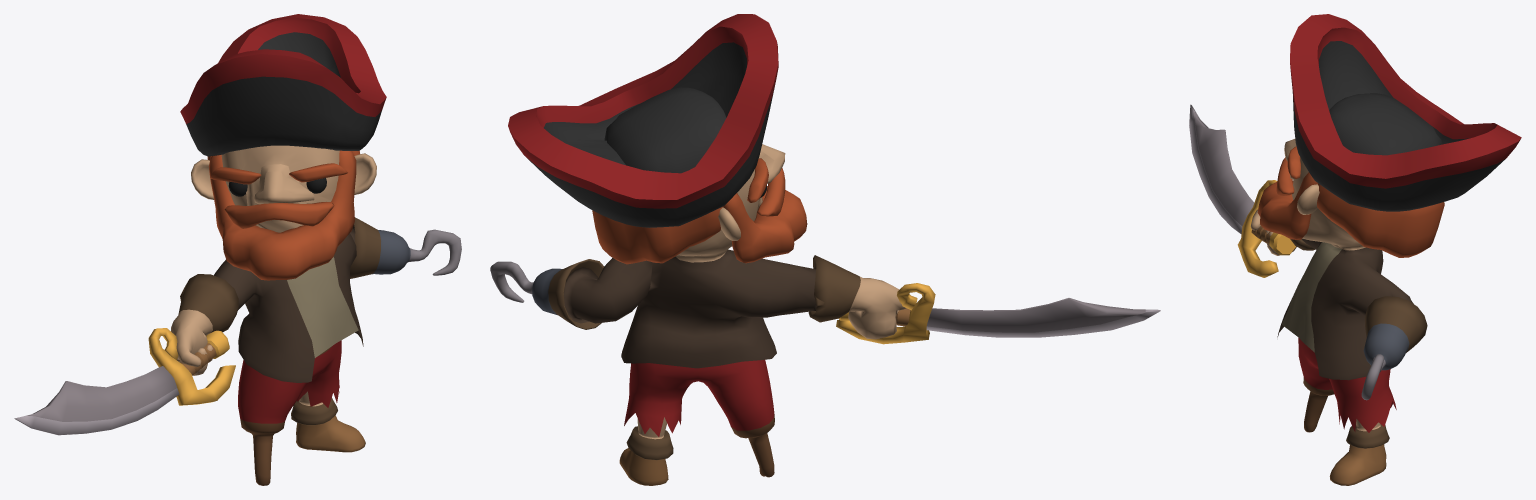
The model's file is pirate_one.glb.
The picture shows the model from 3 angles, left to right: view 1: azimuth 30°, elevation 25°; view 2: azimuth 150°, elevation 25°; view 3: azimuth 270°, elevation 25°; orthographic projection. The views are drawn at different scales.
Parts seen in each view (by area): view 1: Captain_Barbarossa, Weapon_Cutlass.001; view 2: Captain_Barbarossa, Weapon_Cutlass.001; view 3: Captain_Barbarossa, Weapon_Cutlass.001.
Part boxes in pixels (left/top/right/bottom): Captain_Barbarossa: left=171, top=14, right=461, bottom=485; Weapon_Cutlass.001: left=14, top=328, right=235, bottom=435; Captain_Barbarossa: left=490, top=14, right=906, bottom=485; Weapon_Cutlass.001: left=836, top=283, right=1160, bottom=344; Captain_Barbarossa: left=1250, top=14, right=1521, bottom=485; Weapon_Cutlass.001: left=1189, top=104, right=1295, bottom=277.
Bounding box in the file's own units: 2.42 × 1.85 × 1.34.
Materials: 1 (1 with a texture image).
